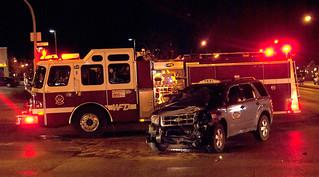front-bumper-dent: (161, 122, 195, 140)
